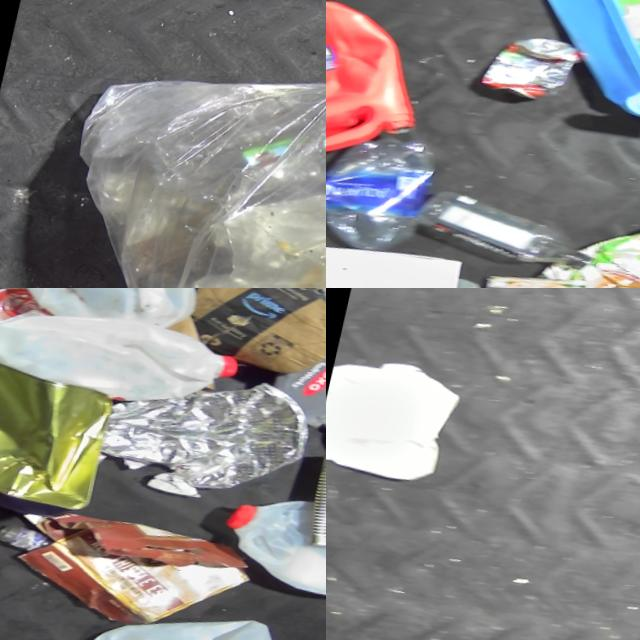can: (477, 31, 589, 118), (303, 459, 326, 570), (478, 267, 599, 288)
milk_jug: (0, 291, 249, 437), (326, 346, 469, 497), (215, 491, 326, 624), (0, 288, 217, 356), (73, 595, 283, 640)
non_white_jug: (326, 0, 445, 196), (509, 0, 640, 161), (536, 203, 640, 288)
plastic_bottle: (411, 180, 607, 288), (326, 127, 438, 264)
